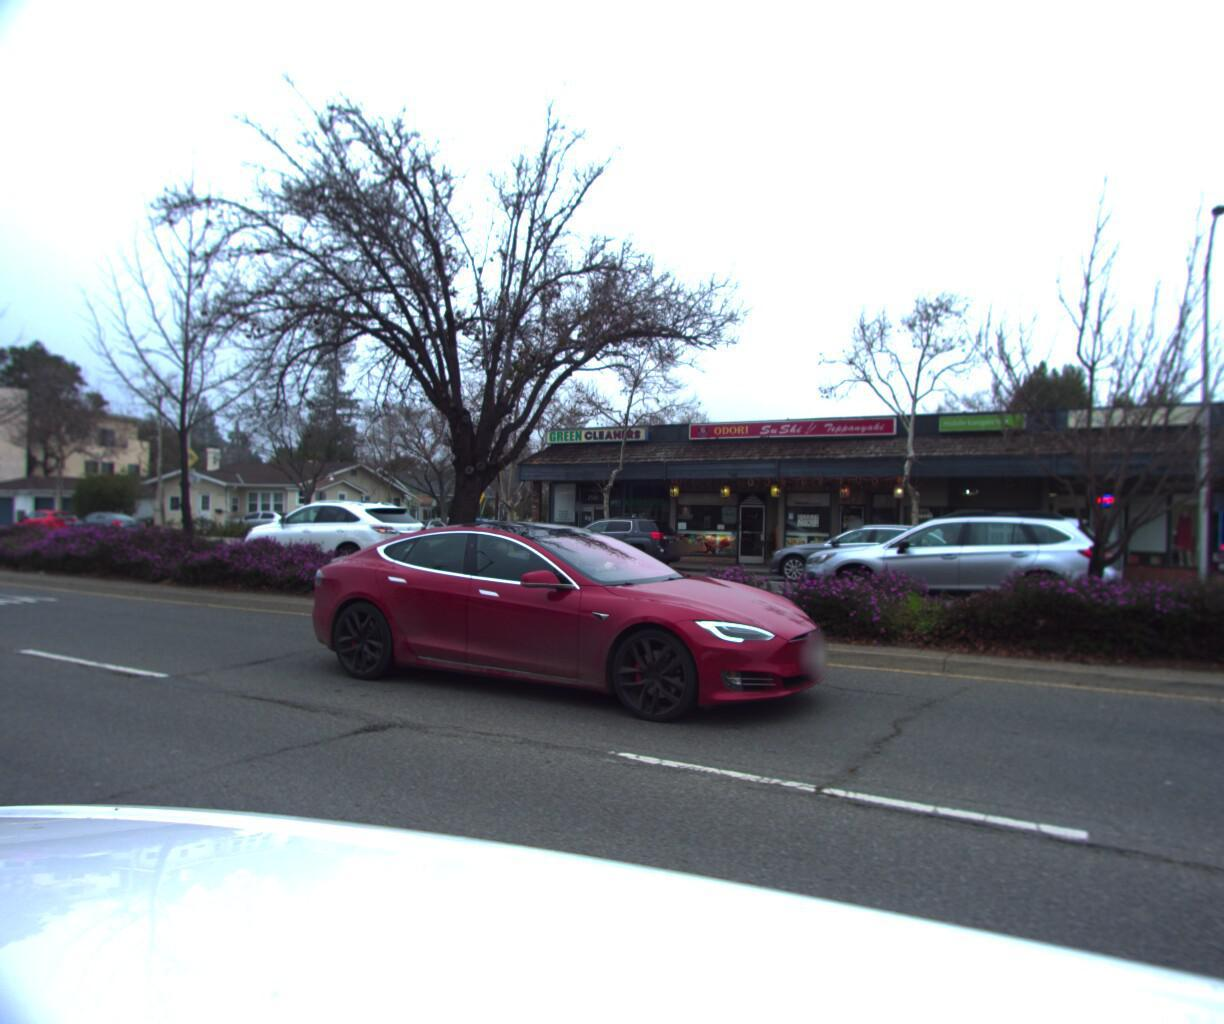car: (284, 505, 856, 733), (798, 507, 1131, 623), (231, 497, 435, 578), (764, 517, 976, 588), (533, 513, 686, 573), (56, 514, 152, 547), (446, 518, 515, 556), (216, 513, 305, 541), (4, 513, 80, 543), (487, 522, 548, 555), (389, 520, 450, 545)
